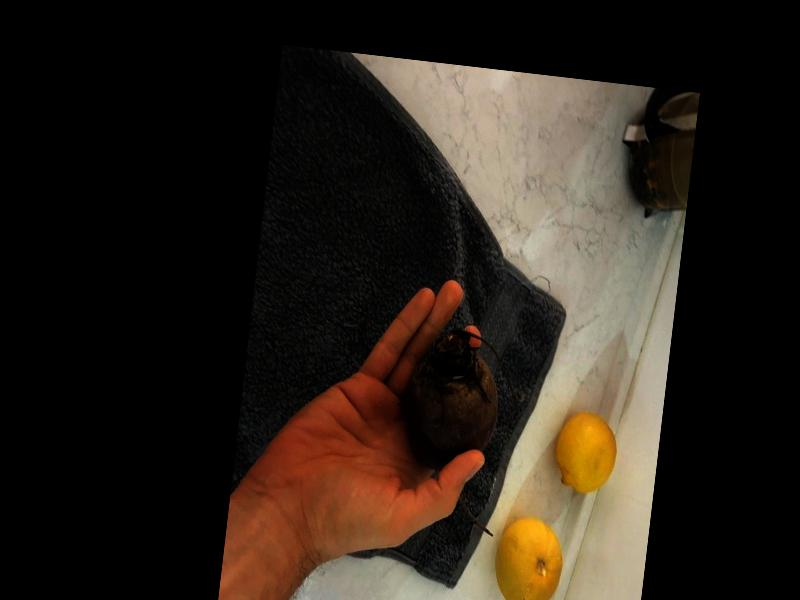Beet: (389, 325, 515, 537)
